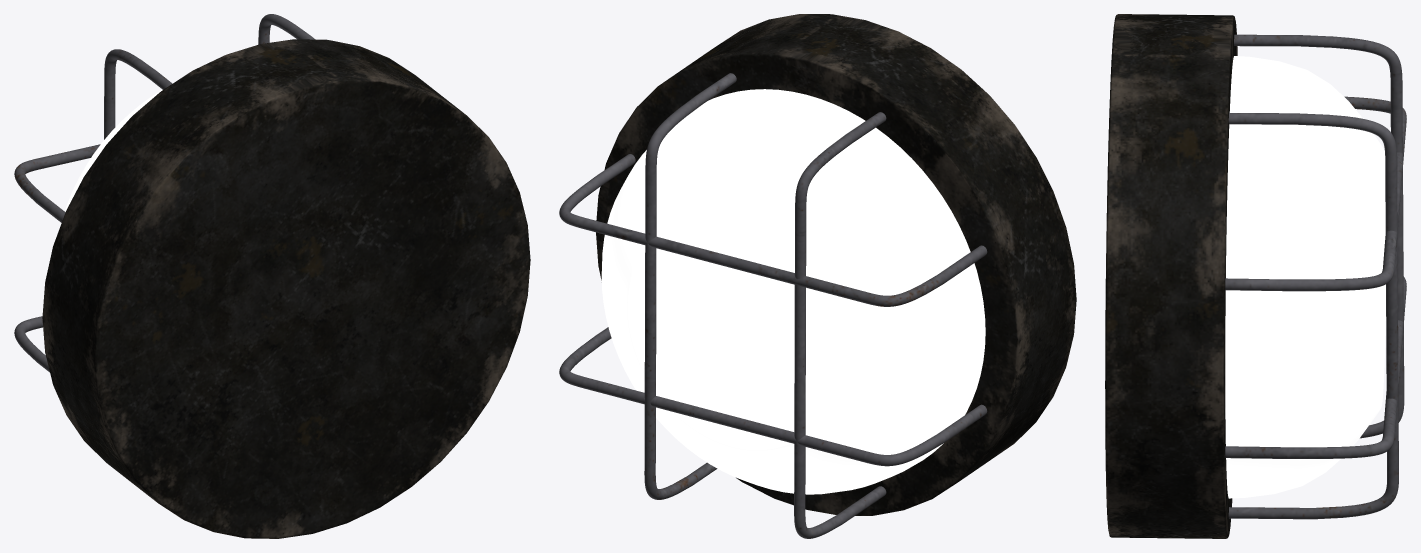
File: EmergencyLightOld.fbx
3 views of the same model, side by side, from view 1: azimuth 30°, elevation 25°; view 2: azimuth 150°, elevation 25°; view 3: azimuth 270°, elevation 25° (orthographic). The views are drawn at different scales.
Visible parts, largest first — view 1: Object_2, Object_4.001, Object_3; view 2: Object_3, Object_2, Object_4.001; view 3: Object_2, Object_3, Object_4.001.
Part boxes in pixels (x1,y1,x2,y2): Object_2: (42,39,530,538); Object_4.001: (14,14,315,372); Object_3: (61,89,162,223); Object_3: (601,89,985,494); Object_2: (596,14,1076,515); Object_4.001: (559,73,987,538); Object_2: (1105,14,1237,538); Object_3: (1225,56,1385,498); Object_4.001: (1225,34,1406,519).
Size of the model in its own units: 66.14 by 65.76 by 37.86.
3 materials, 3 textured.
